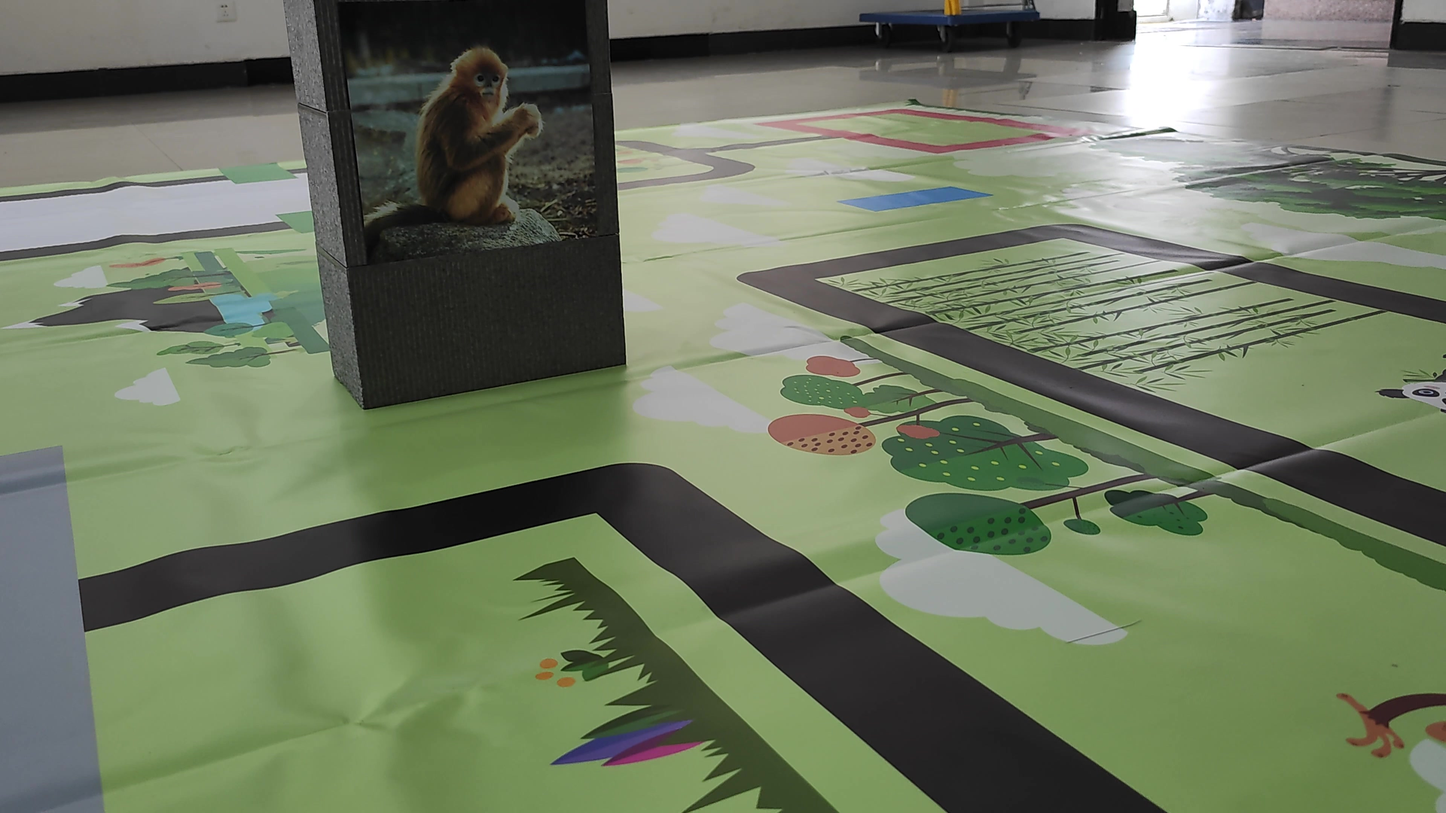monkey: (364, 31, 578, 250)
